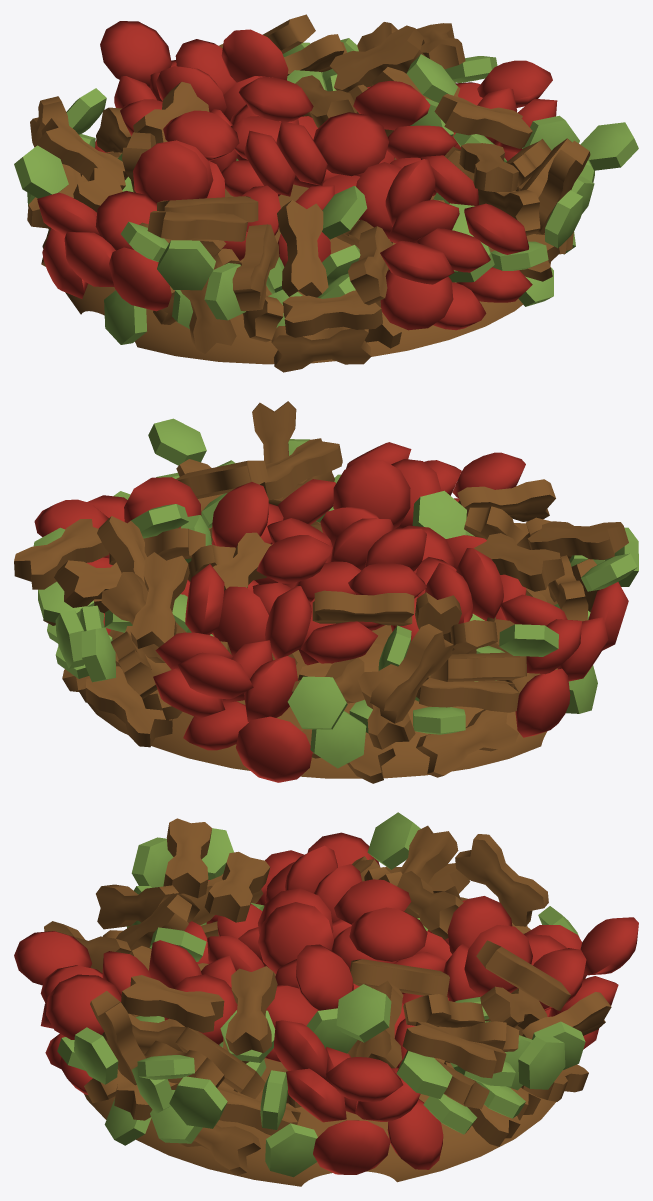
File: DogAccesories-002.fbx
3 views of the same model, one above another, from view 1: azimuth 30°, elevation 25°; view 2: azimuth 150°, elevation 25°; view 3: azimuth 270°, elevation 25° (orthographic). The views are drawn at different scales.
Parts seen in each view (by area): view 1: DogAccesories-002; view 2: DogAccesories-002; view 3: DogAccesories-002.
Part boxes in pixels (x1,y1,x2,y2): DogAccesories-002: [14, 14, 638, 372]; DogAccesories-002: [14, 401, 638, 783]; DogAccesories-002: [14, 812, 638, 1186].
Size of the model in its own units: 0.3349 by 0.1064 by 0.3468.
